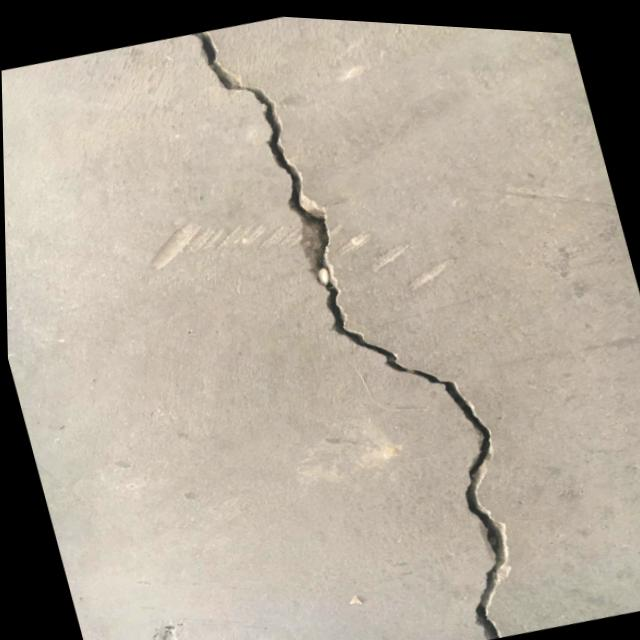Crack: (178, 8, 398, 383), (367, 315, 564, 640)
